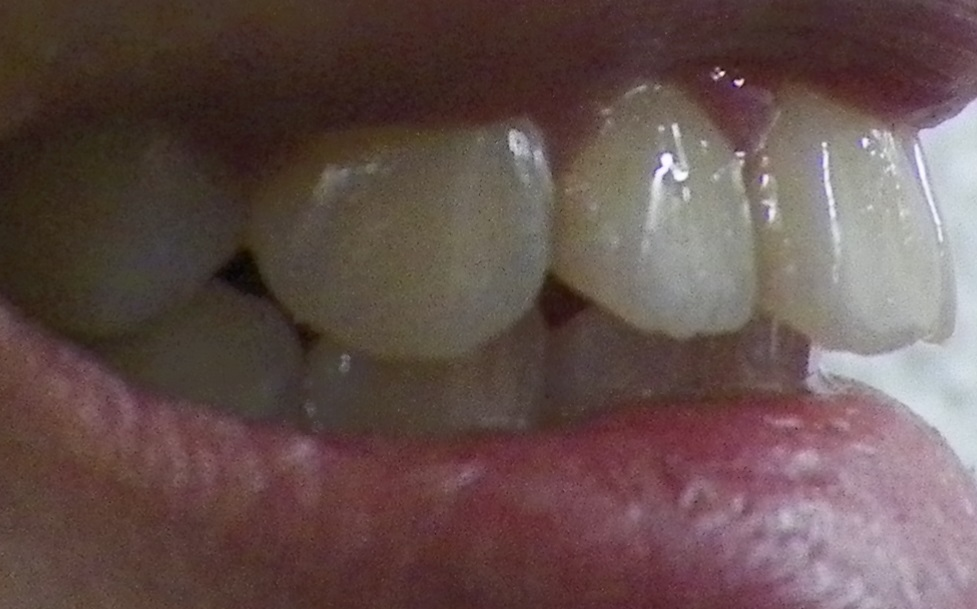boca: (1, 91, 962, 439)
